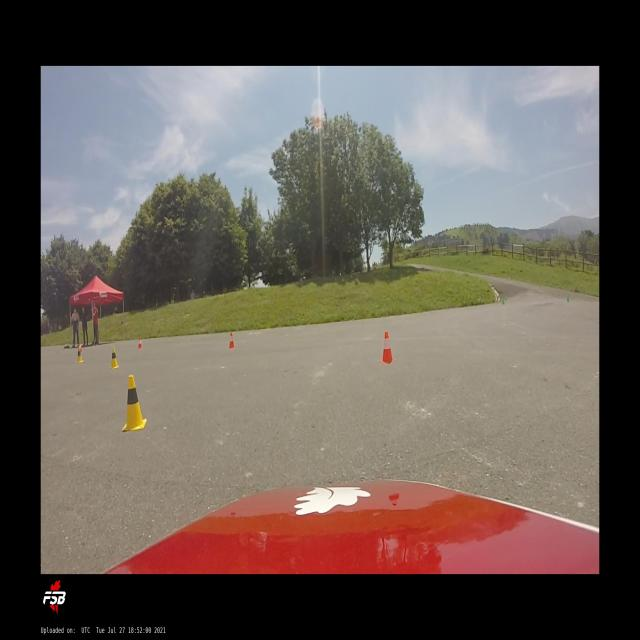orange_cone: (380, 331, 396, 364), (76, 347, 84, 364), (228, 332, 236, 349), (138, 337, 143, 349), (78, 342, 83, 353)
yellow_cone: (121, 375, 148, 432), (110, 347, 120, 369), (76, 347, 84, 364)
